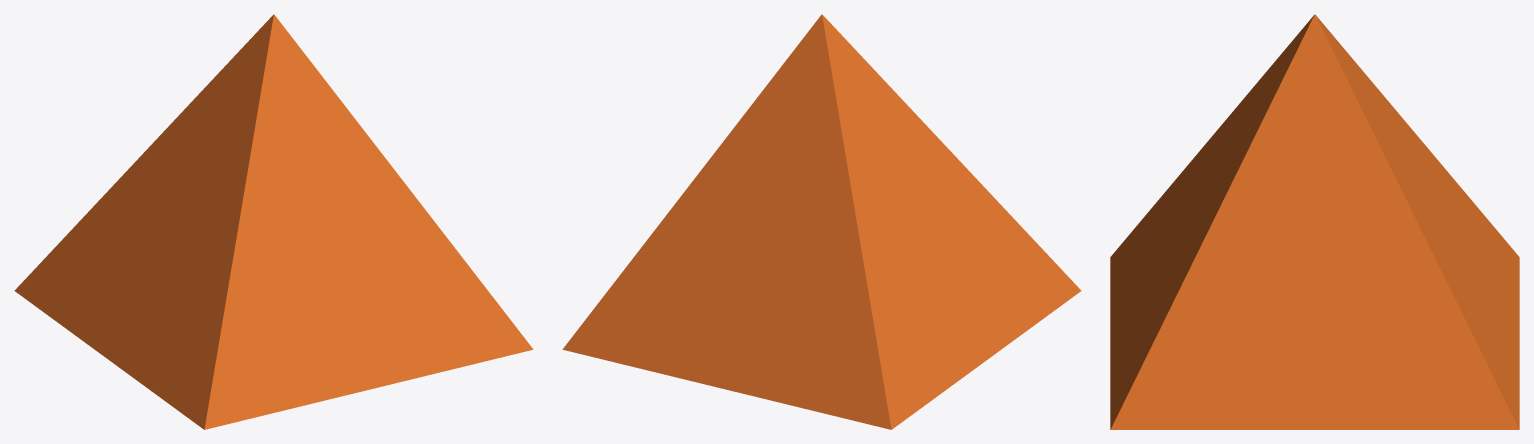
3 renders of one model, left to right at view 1: azimuth 30°, elevation 25°; view 2: azimuth 150°, elevation 25°; view 3: azimuth 270°, elevation 25°, orthographic. The views are drawn at different scales.
Parts seen in each view (by area): view 1: pyramid; view 2: pyramid; view 3: pyramid.
Part boxes in pixels (<box>): pyramid: <box>14,14,533,429</box>; pyramid: <box>562,14,1081,429</box>; pyramid: <box>1110,14,1519,429</box>.
Bounding box in the file's own units: 0.9 × 0.8 × 0.9.
1 material, 1 textured.
